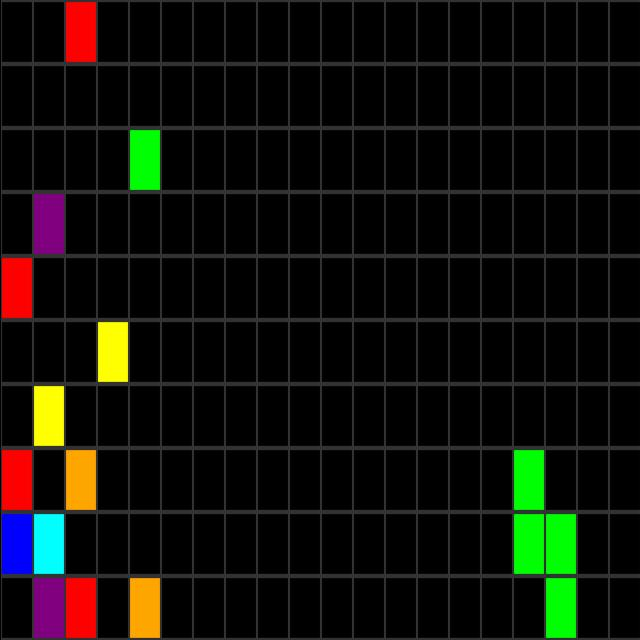Tetrimino_T: (514, 450, 577, 640)
